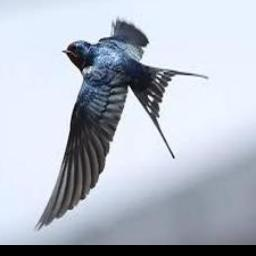Swallow: (33, 17, 208, 232)
